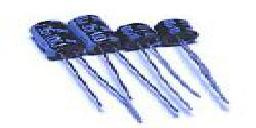Electrolytic-Capacitor: (32, 17, 134, 128), (157, 15, 240, 112)
